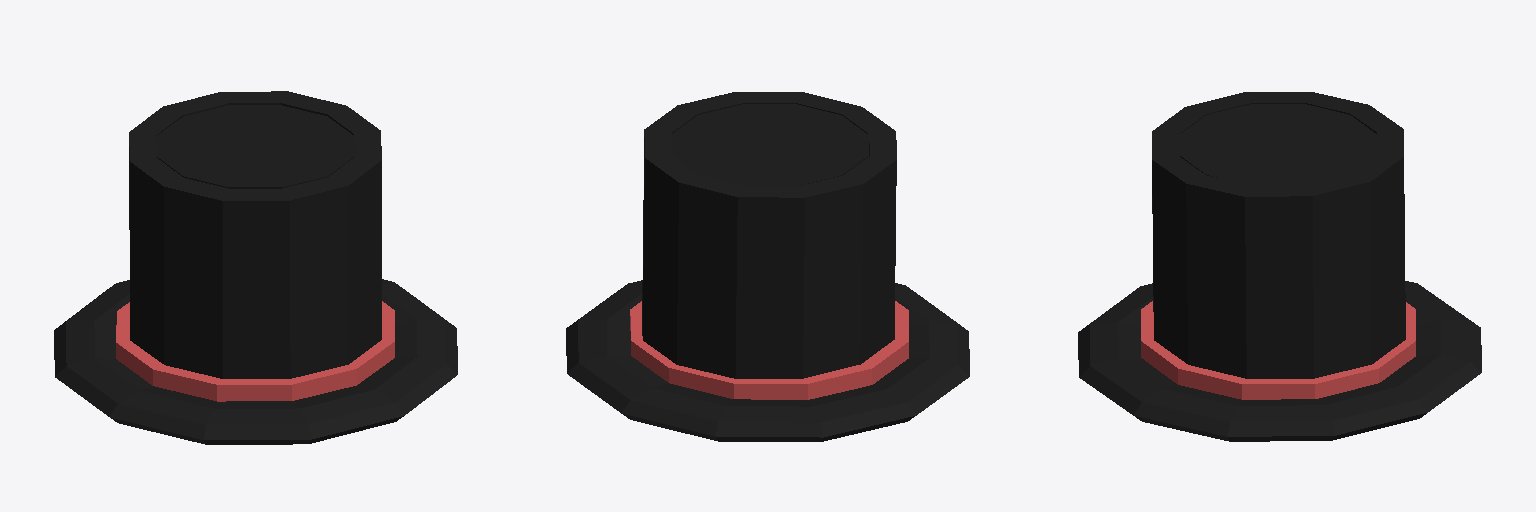
3 views of the same model, side by side, from view 1: azimuth 30°, elevation 25°; view 2: azimuth 150°, elevation 25°; view 3: azimuth 270°, elevation 25° (orthographic).
Visible parts, largest first — view 1: hat; view 2: hat; view 3: hat.
Boxes of the visible parts, <box> form: hat: <box>54,91,457,444</box>; hat: <box>566,92,969,441</box>; hat: <box>1078,92,1481,441</box>.
Size of the model in its own units: 1.1 by 0.6766 by 1.1.
Materials: 1 (1 with a texture image).